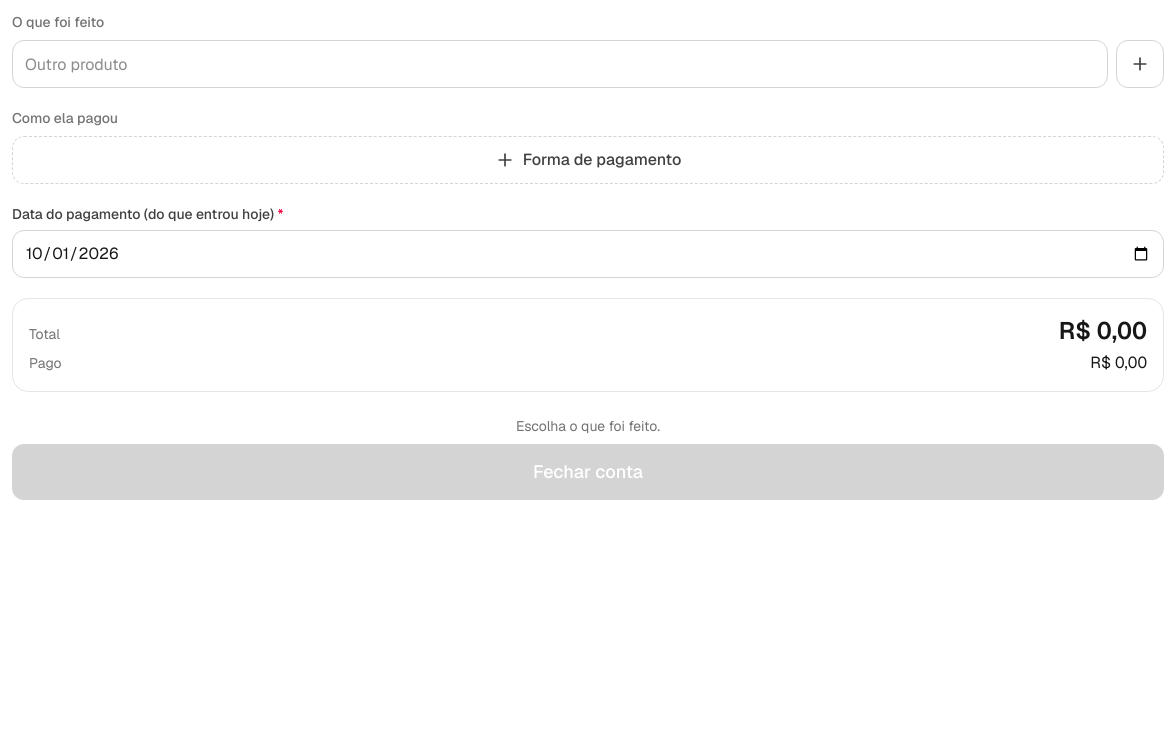
FecharConta — titularidade › Nubank continua perguntando
The image size is (1176, 732).
Click the button "Forma de pagamento": (588, 160) [12,136,1164,184]
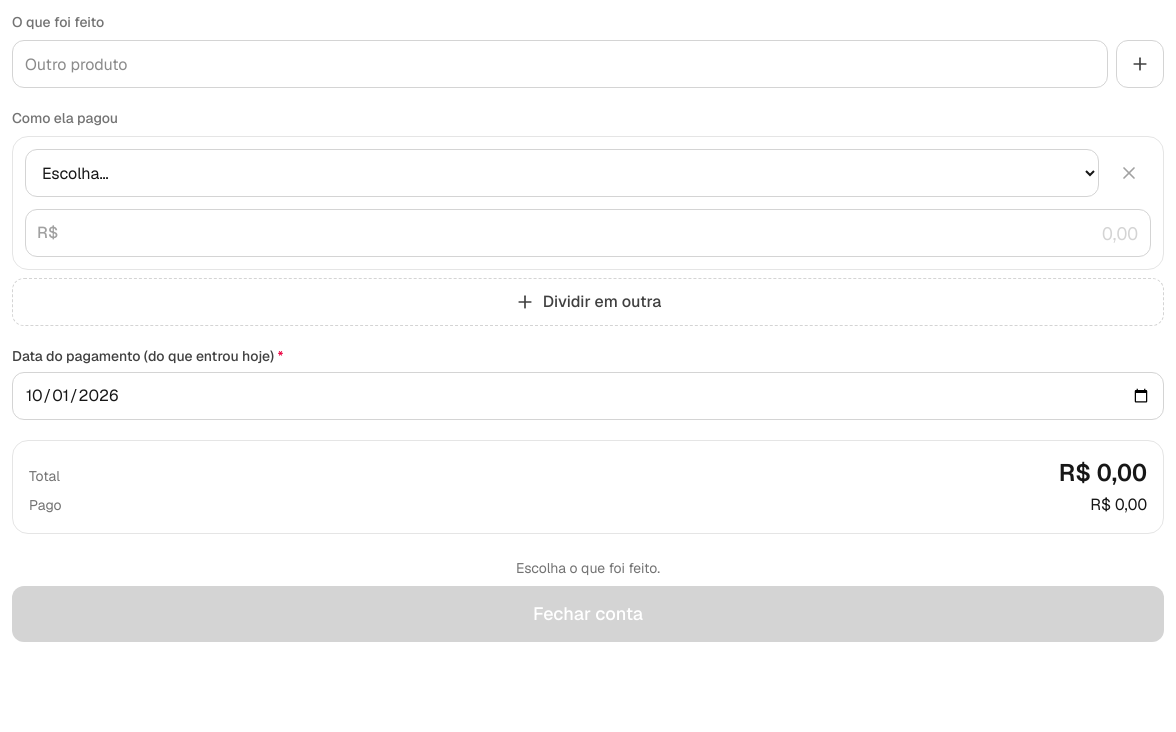
Select "Nubank" in the dropdown named "Forma de pagamento": (562, 173) [25,149,1099,197]
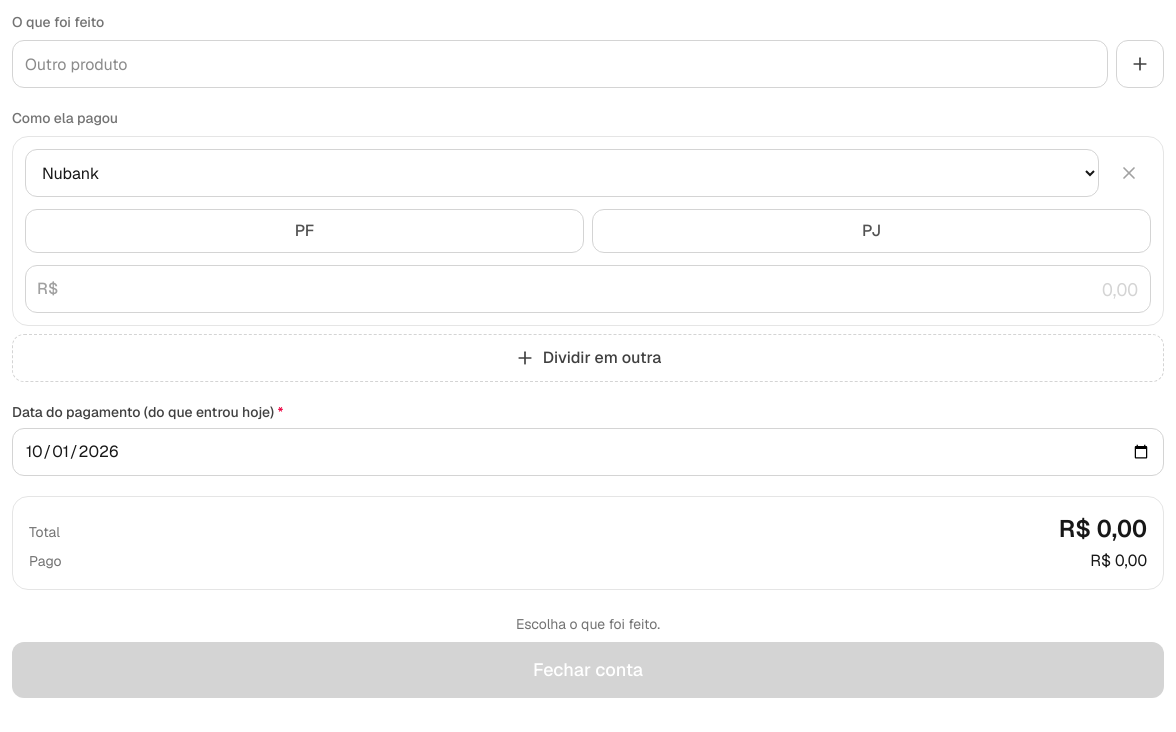
Check: the button "PF" is shown, box [25,209,584,253]
Check: the button "PJ" is shown, box [592,209,1151,253]
